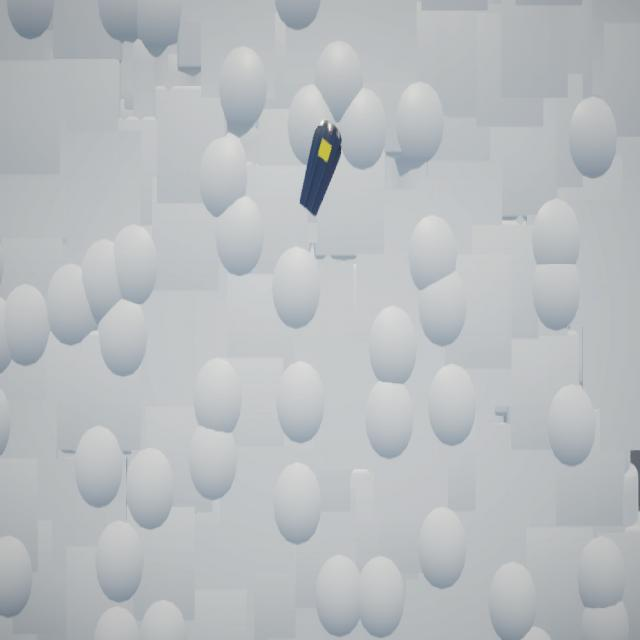handle_folk: (300, 121, 343, 218)
